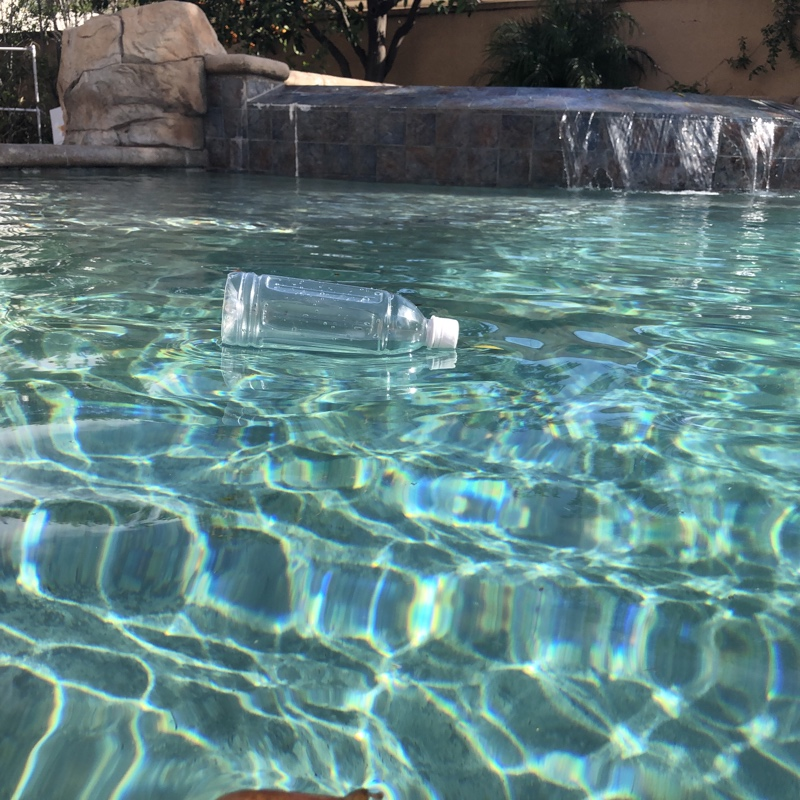Plastic Bottle: (217, 257, 462, 363)
